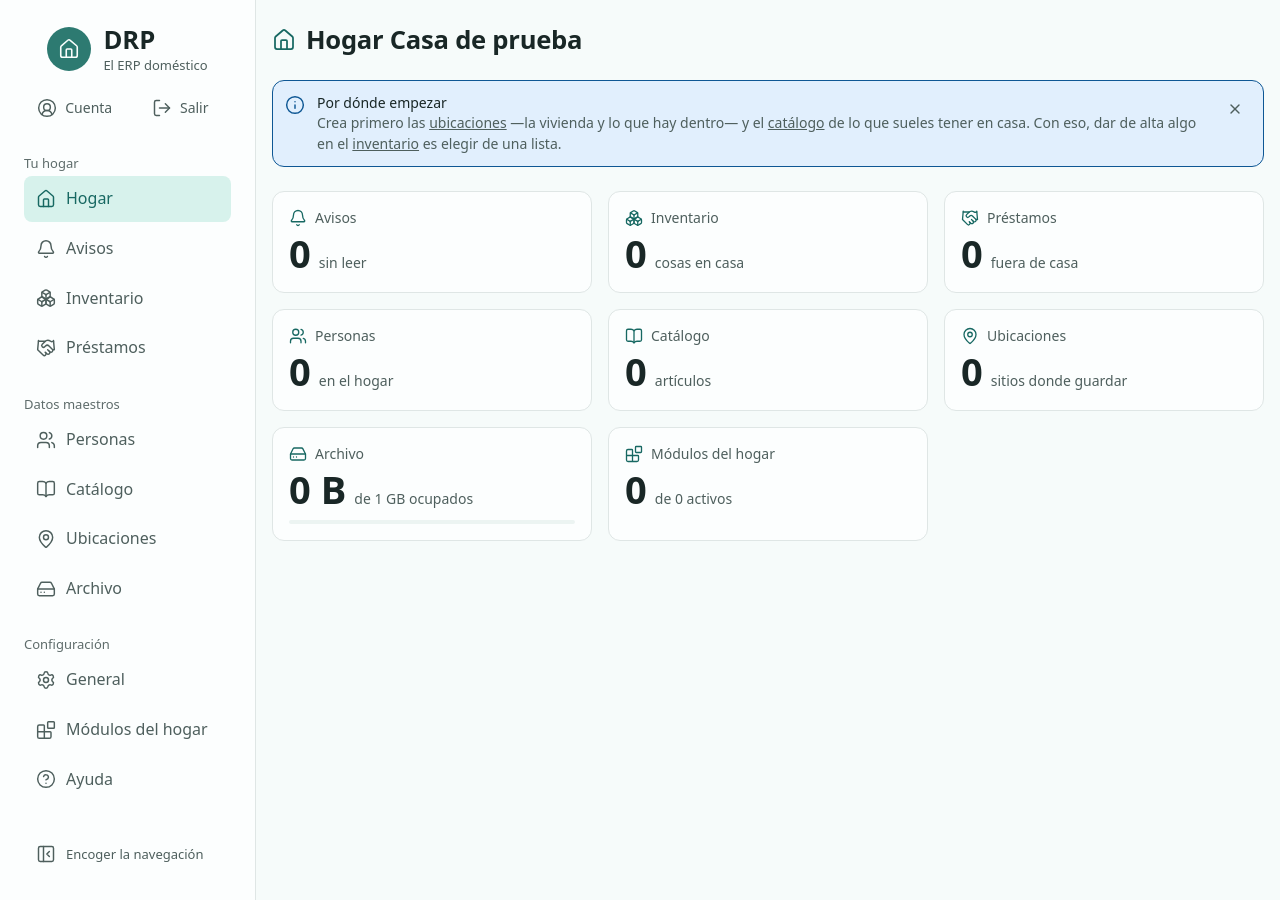
el panel de «Hogar» › descartar la ayuda la quita y lo deja apuntado en el navegador
Expected: the navigation bar named "Principal" is shown, [24,154,231,802]
Expected: the text "Por dónde empezar" is shown, [317,93,447,112]
Click the button named "Descartar el aviso".
click(1235, 109)  # box [1213,87,1257,131]
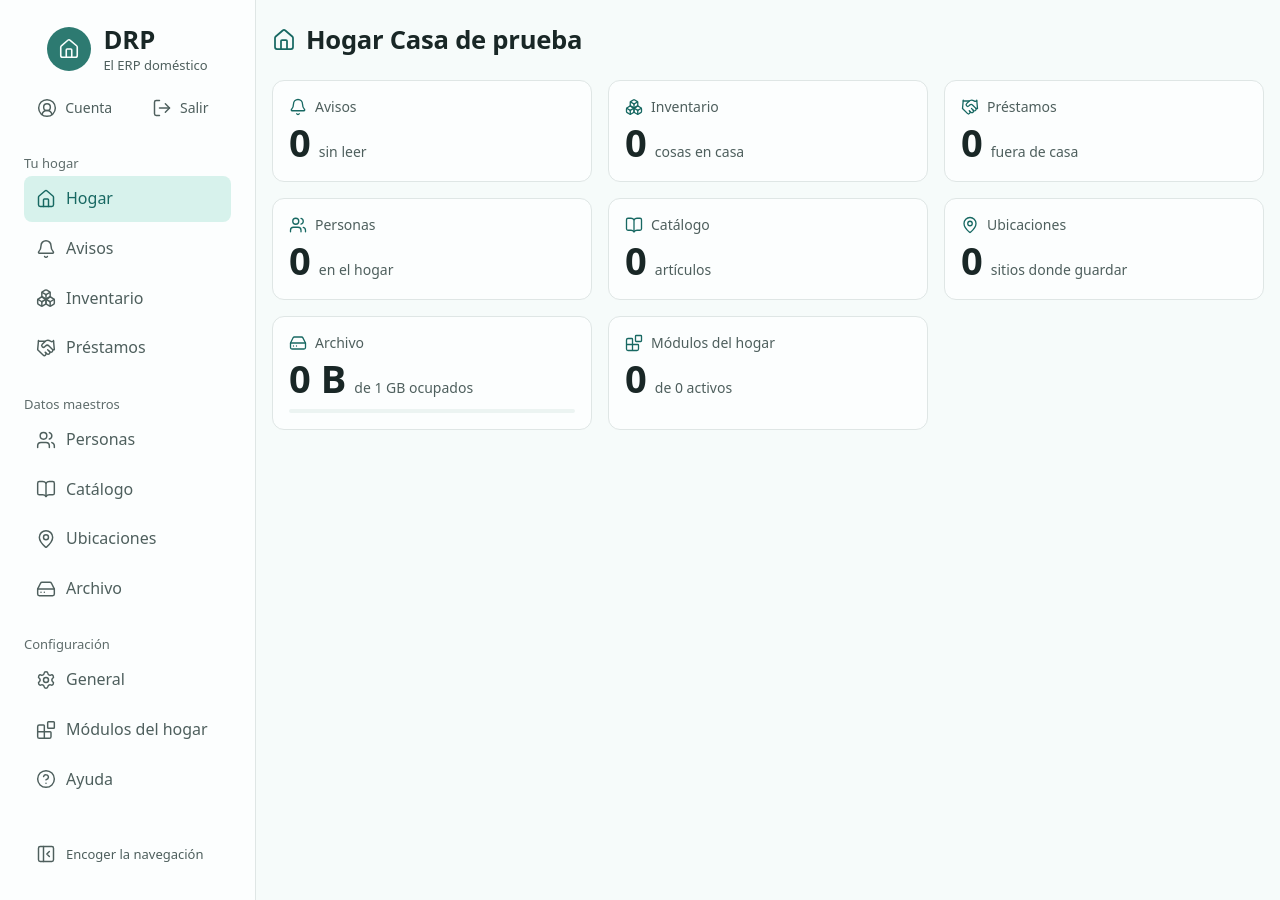
Expected: the text "Por dónde empezar" is gone
